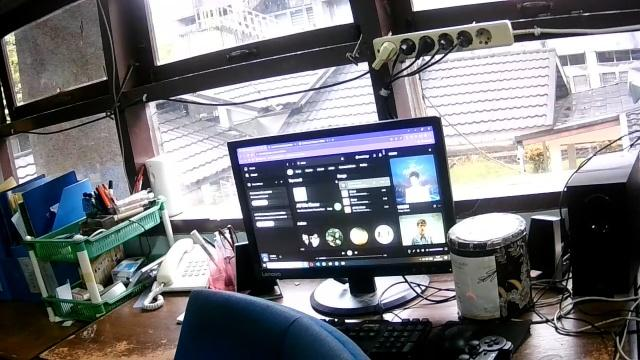AIO PC-Monitor-TV: (224, 114, 460, 317)
